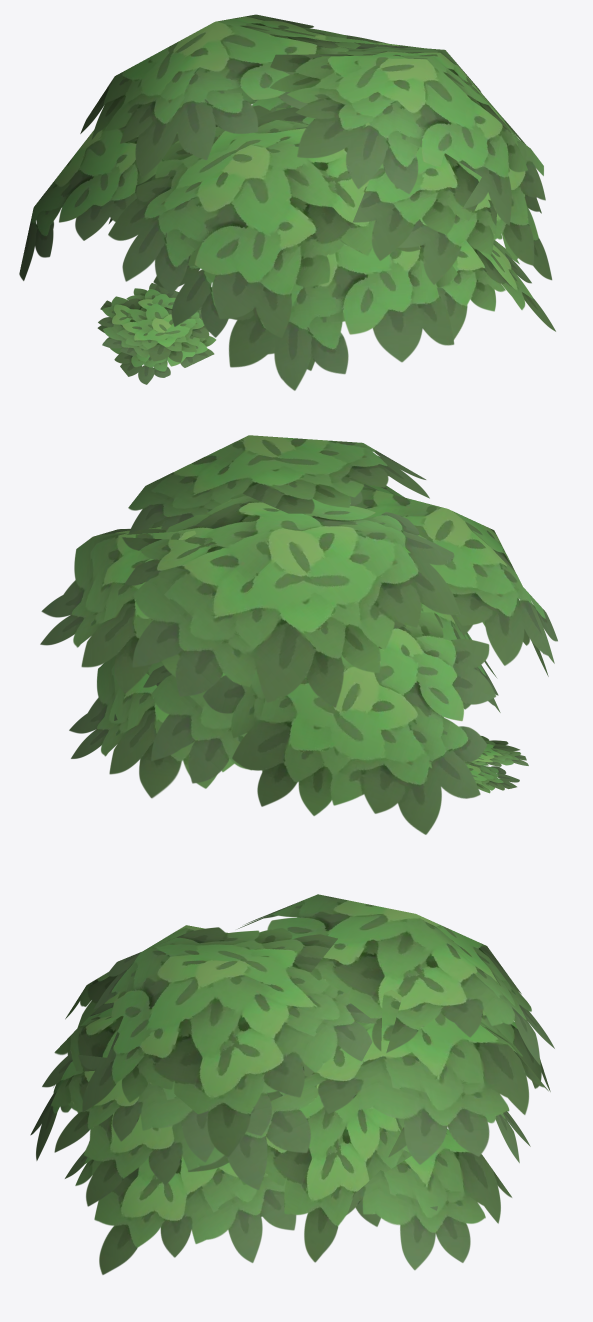
Rendered from bush_1.glb.
3 views of the same model, one above another, from view 1: azimuth 30°, elevation 25°; view 2: azimuth 150°, elevation 25°; view 3: azimuth 270°, elevation 25° (orthographic). The views are drawn at different scales.
Parts seen in each view (by area): view 1: Bush_Large; view 2: Bush_Large; view 3: Bush_Large.
Part boxes in pixels (<box>): Bush_Large: <box>19,14,555,390</box>; Bush_Large: <box>40,435,557,834</box>; Bush_Large: <box>30,894,554,1274</box>.
Bounding box in the file's own units: 2.07 × 1.13 × 2.07.
Materials: 1 (1 with a texture image).
